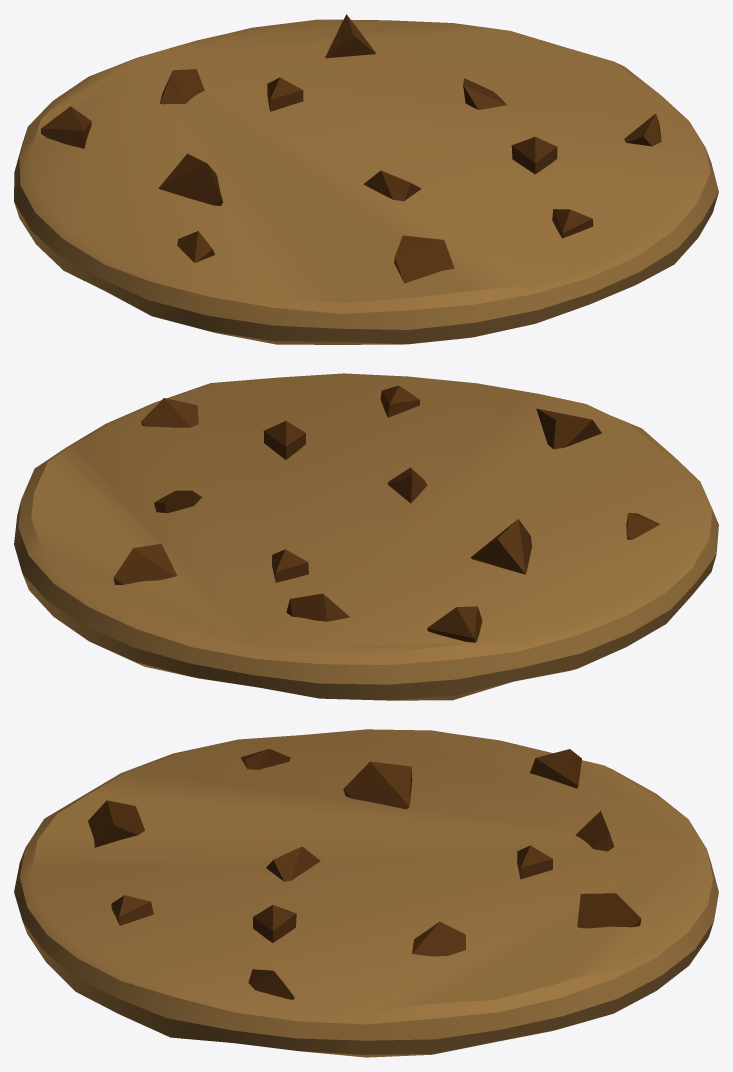
The model's file is Cookie.fbx.
3 views of the same model, one above another, from view 1: azimuth 30°, elevation 25°; view 2: azimuth 150°, elevation 25°; view 3: azimuth 270°, elevation 25° (orthographic).
Visible parts, largest first — view 1: Cookie; view 2: Cookie; view 3: Cookie.
Boxes of the visible parts, <box> form: Cookie: <box>14,14,718,344</box>; Cookie: <box>14,373,718,700</box>; Cookie: <box>14,729,718,1057</box>.
Bounding box in the file's own units: 14.41 × 1.89 × 14.41.
